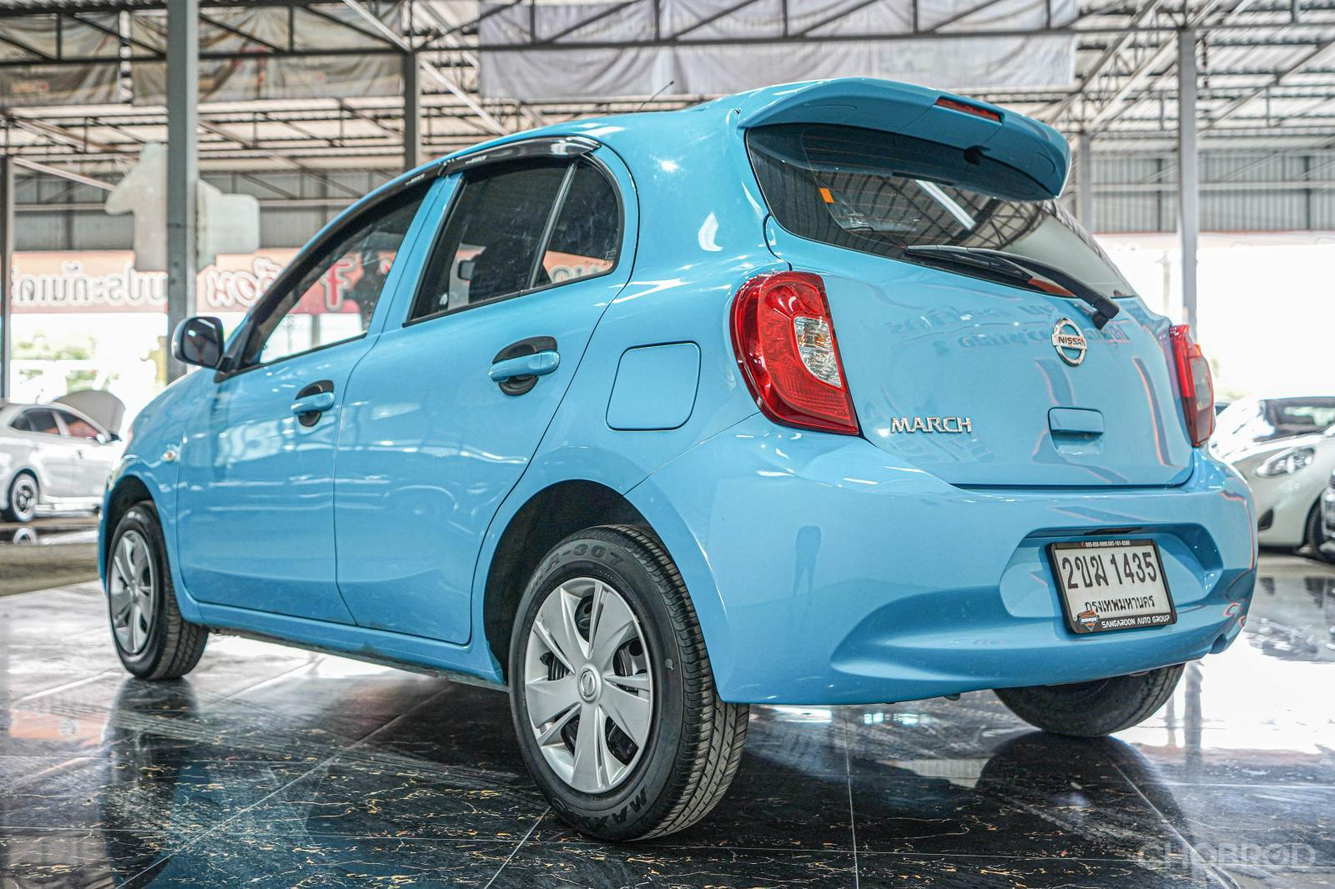license-plate: (1027, 511, 1193, 649)
